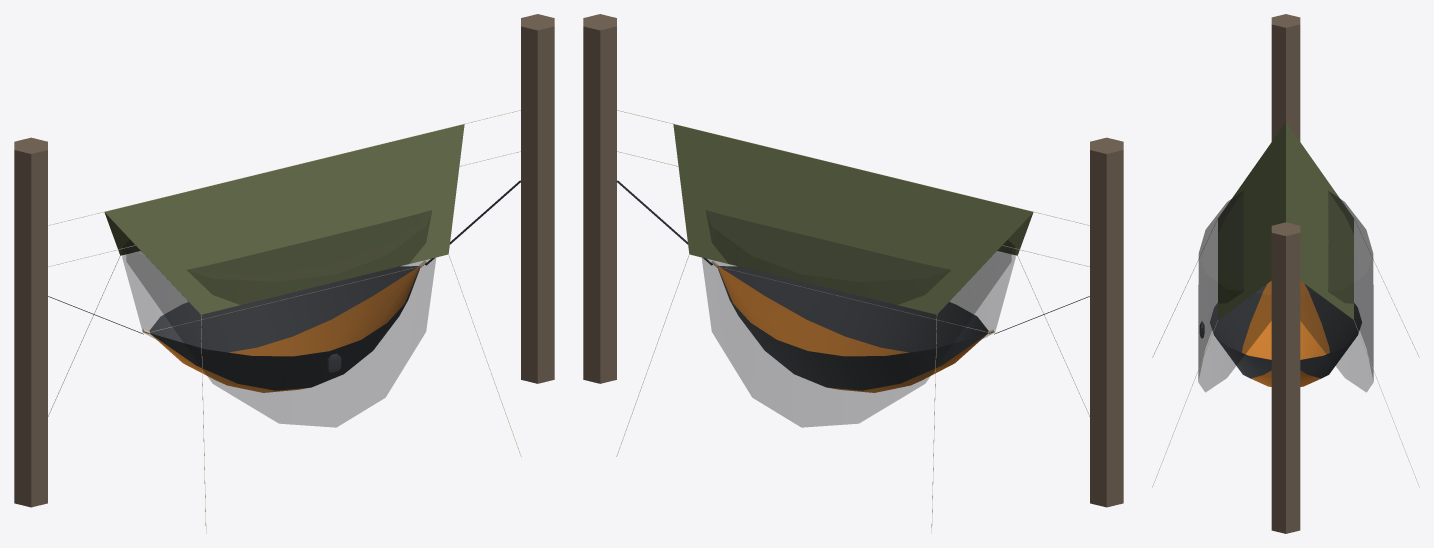
Rendered from hammock_camping_shelter.far.glb.
The picture shows the model from 3 angles, left to right: view 1: azimuth 30°, elevation 25°; view 2: azimuth 150°, elevation 25°; view 3: azimuth 270°, elevation 25°; orthographic projection. The views are drawn at different scales.
Parts seen in each view (by area): view 1: hammock_camping_shelter, bed_hammock_camping_shelter; view 2: hammock_camping_shelter, bed_hammock_camping_shelter; view 3: hammock_camping_shelter, bed_hammock_camping_shelter.
Part boxes in pixels (x1,y1,x2,y2): hammock_camping_shelter: (14, 14, 554, 533); bed_hammock_camping_shelter: (48, 180, 521, 392); hammock_camping_shelter: (583, 14, 1123, 533); bed_hammock_camping_shelter: (616, 180, 1089, 392); hammock_camping_shelter: (1152, 14, 1419, 533); bed_hammock_camping_shelter: (1199, 281, 1361, 386).
Size of the model in its own units: 4.8 by 3 by 2.44.
